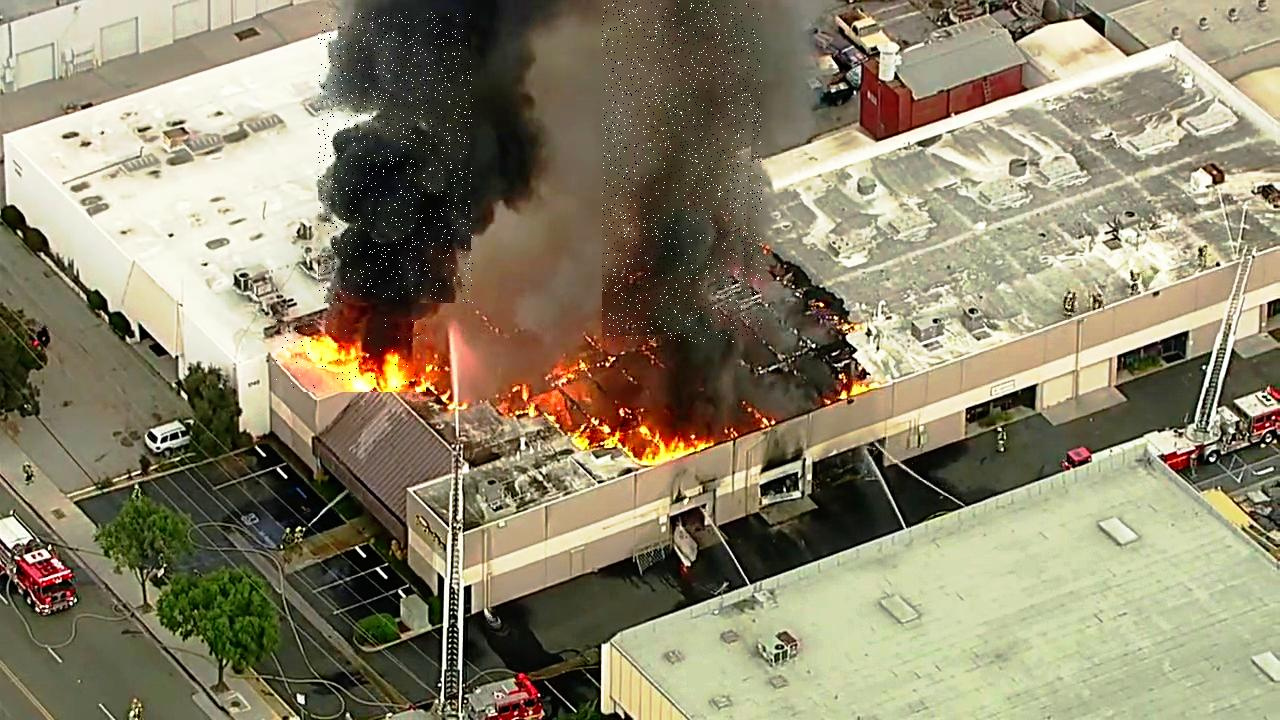fire: (277, 317, 429, 392)
smoke: (602, 2, 762, 343), (319, 12, 474, 303)
